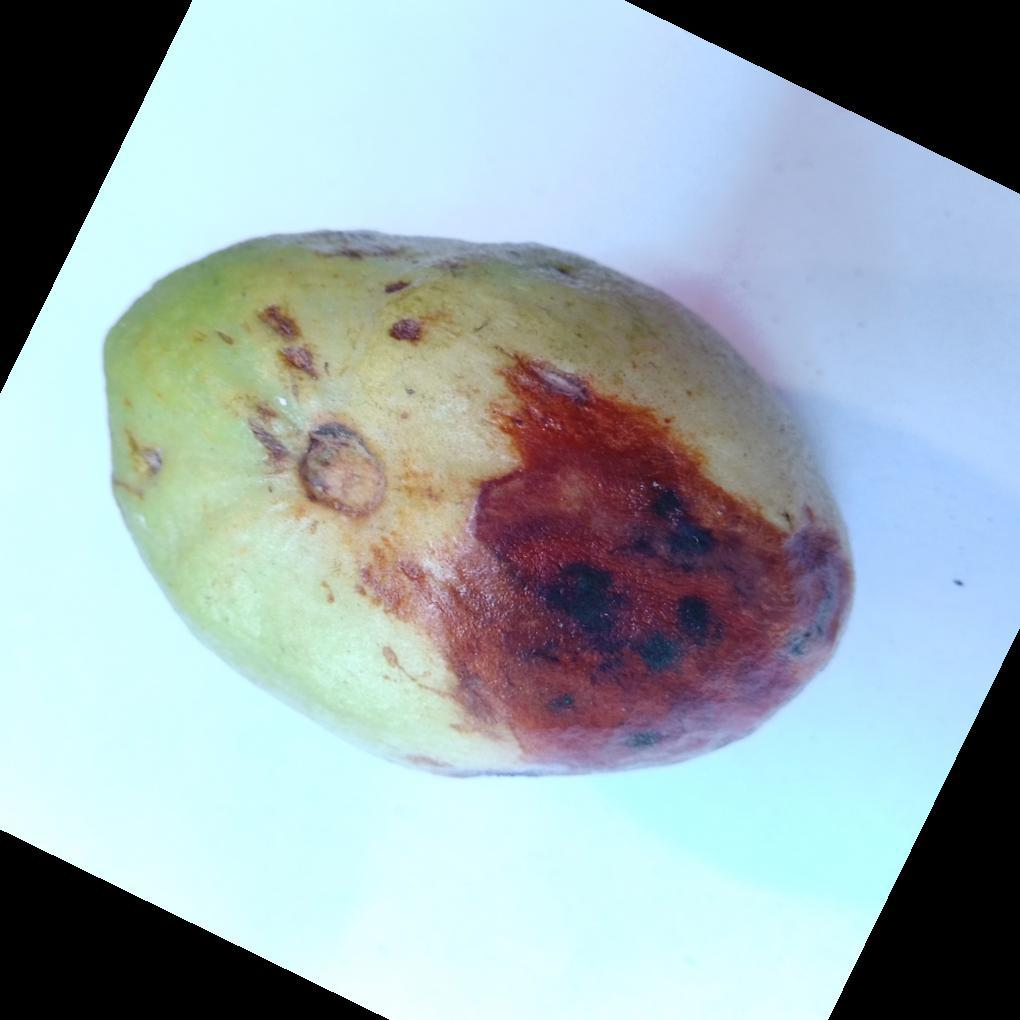FreshOrange: (99, 231, 856, 783)
